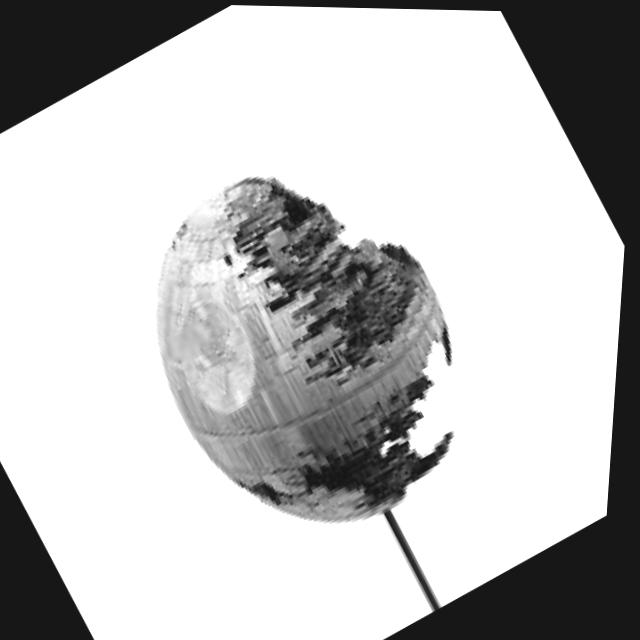death-stars: (159, 173, 464, 525)
